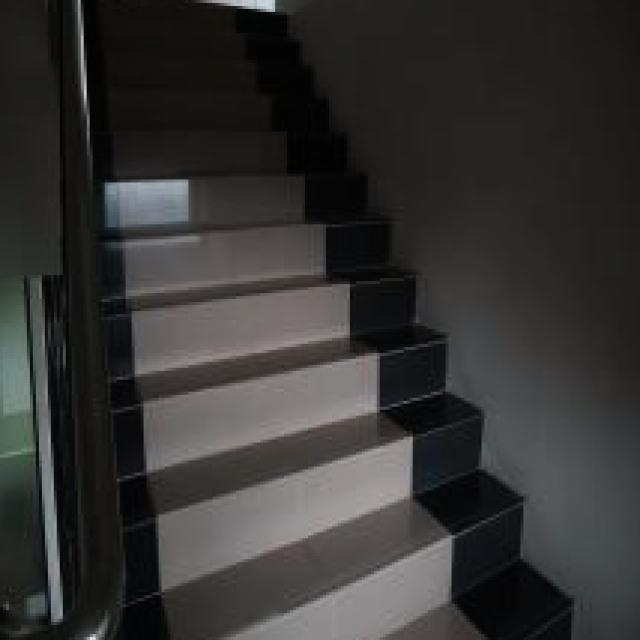upstair: (100, 121, 414, 501)
